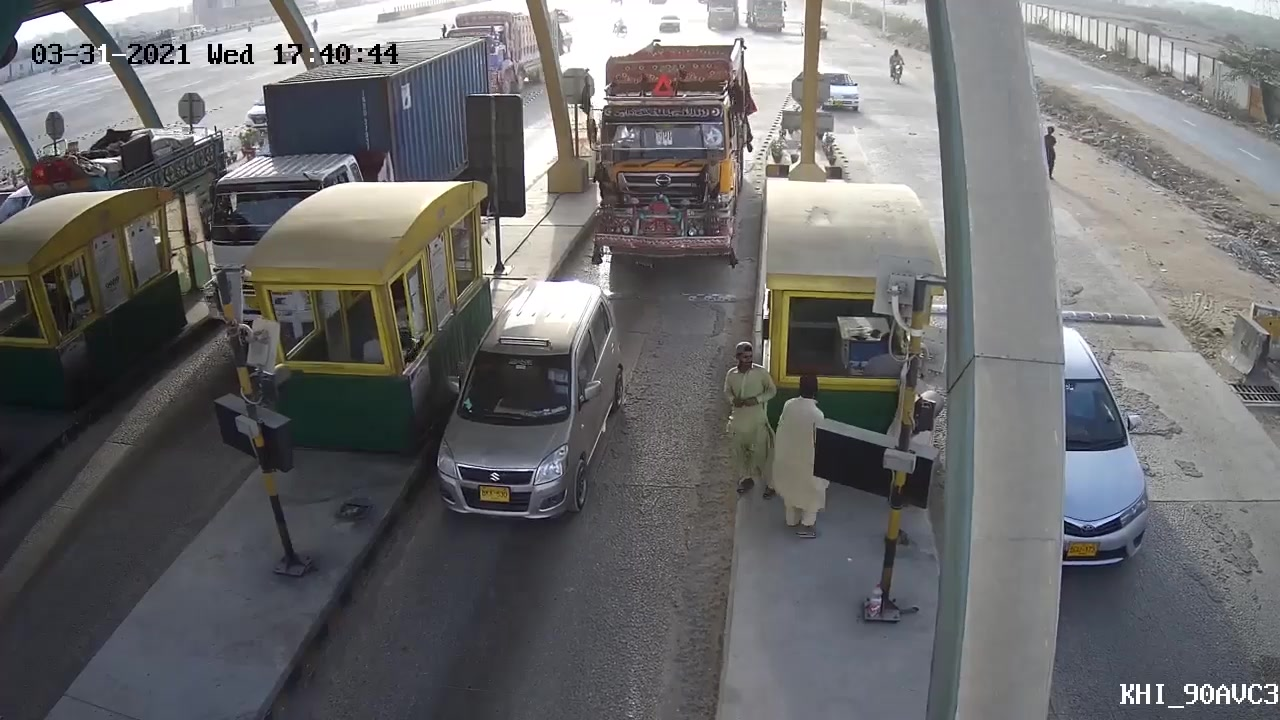F1: (429, 279, 620, 540)
F5: (587, 27, 757, 281)
